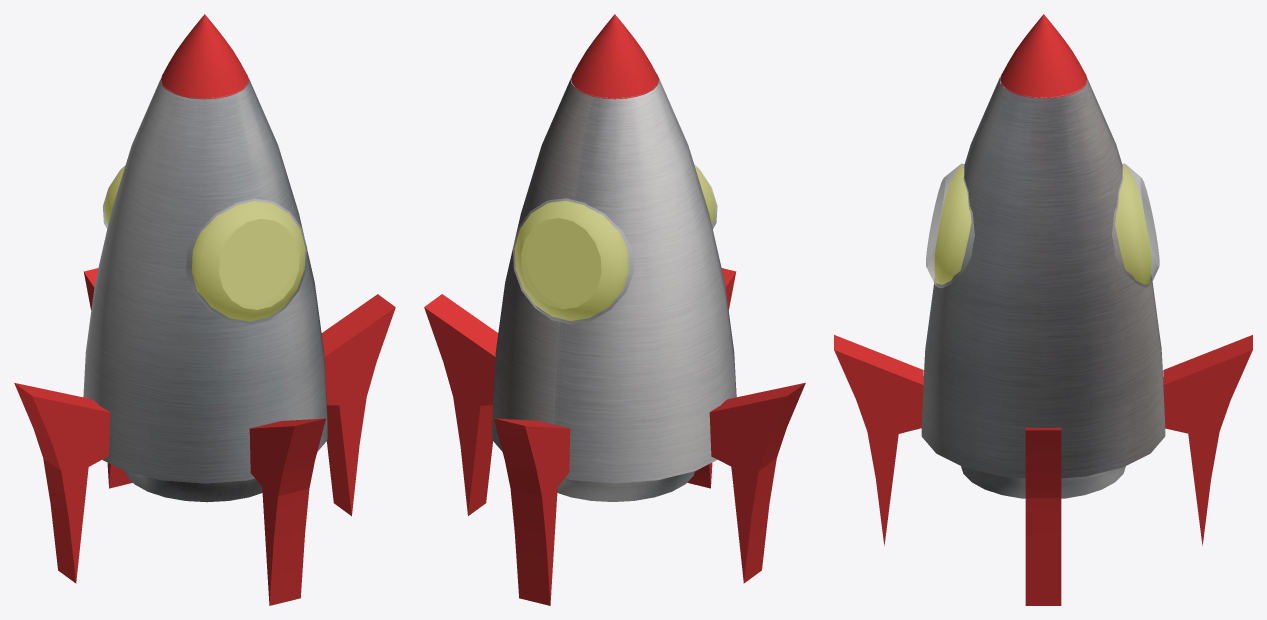
File: Rocket.FBX
3 renders of one model, left to right at view 1: azimuth 30°, elevation 25°; view 2: azimuth 150°, elevation 25°; view 3: azimuth 270°, elevation 25°, orthographic.
Visible parts, largest first — view 1: Object002; view 2: Object002; view 3: Object002.
Part boxes in pixels (<box>): Object002: <box>14,14,395,605</box>; Object002: <box>424,14,805,605</box>; Object002: <box>834,14,1252,605</box>.
Size of the model in its own units: 29.14 by 40.53 by 29.3.
